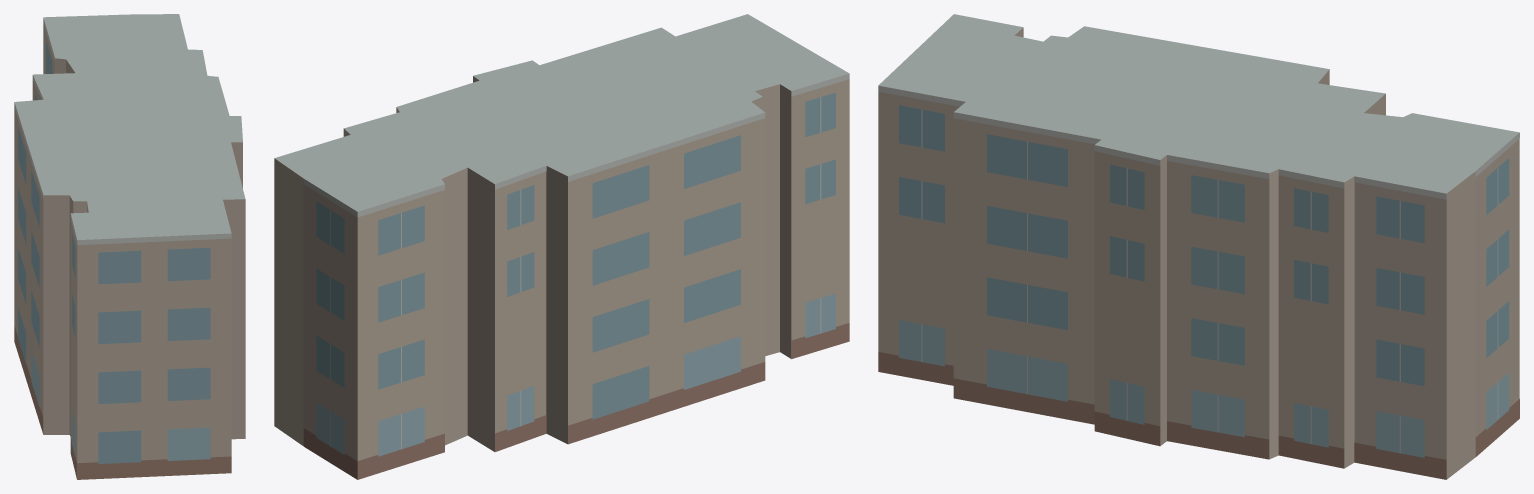
The model's file is survey-upis-32716056.glb.
3 renders of one model, left to right at view 1: azimuth 30°, elevation 25°; view 2: azimuth 150°, elevation 25°; view 3: azimuth 270°, elevation 25°, orthographic. The views are drawn at different scales.
Parts seen in each view (by area): view 1: survey-upis-32716056.tmp; view 2: survey-upis-32716056.tmp; view 3: survey-upis-32716056.tmp.
Part boxes in pixels (x1,y1,x2,y2): survey-upis-32716056.tmp: [14, 14, 245, 479]; survey-upis-32716056.tmp: [274, 14, 849, 479]; survey-upis-32716056.tmp: [878, 14, 1519, 479].
Size of the model in its own units: 15.65 by 11.62 by 23.62.
